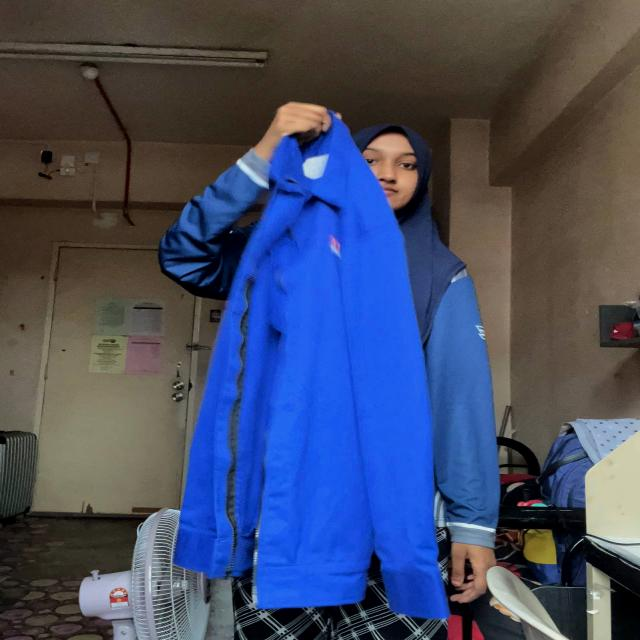person_without_labcoat: (159, 104, 499, 640)
